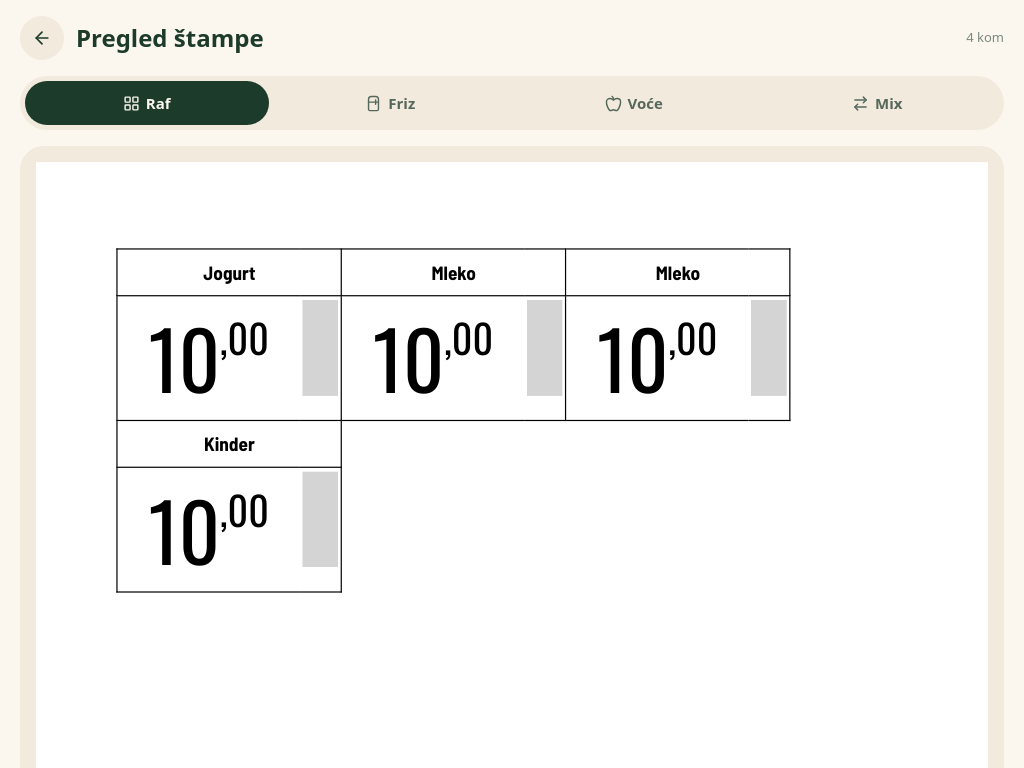
Test: PrintPreview in Mix › moves a tag over with one tap, counting copies
Click the button "Mix": (877, 103) [756,81,999,125]
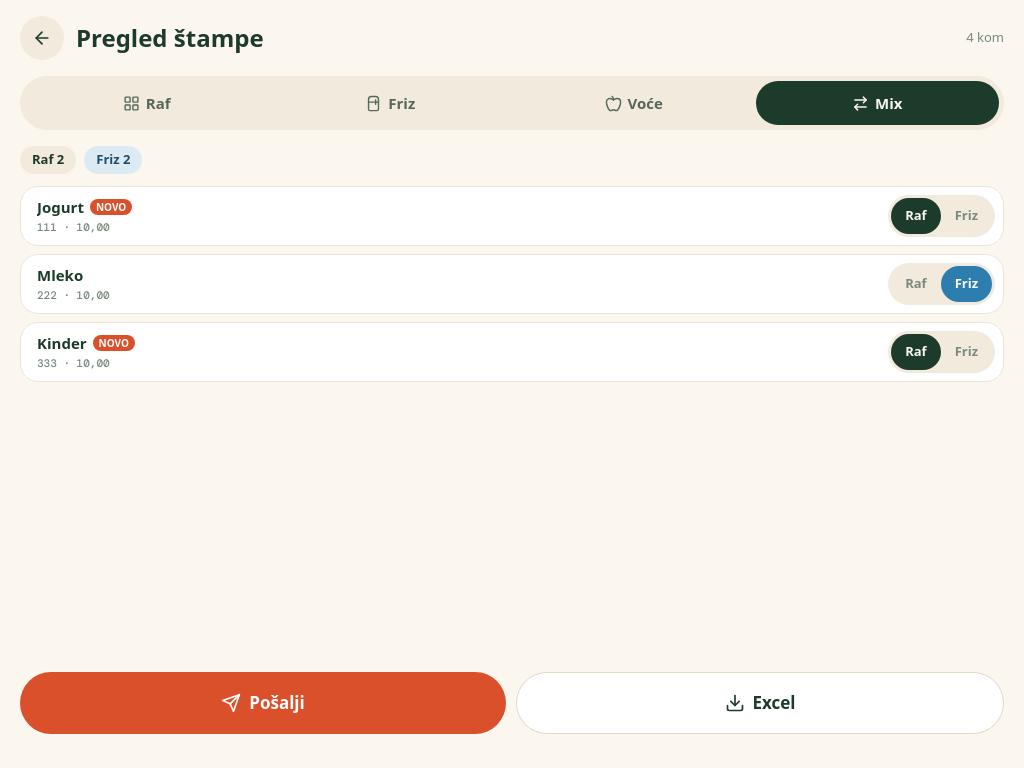
Result: the text "Friz 2" is shown at [84,146,142,174]
Click the radio button labelled "Friz" in the row of "Jogurt": (966, 216) [941,198,992,234]
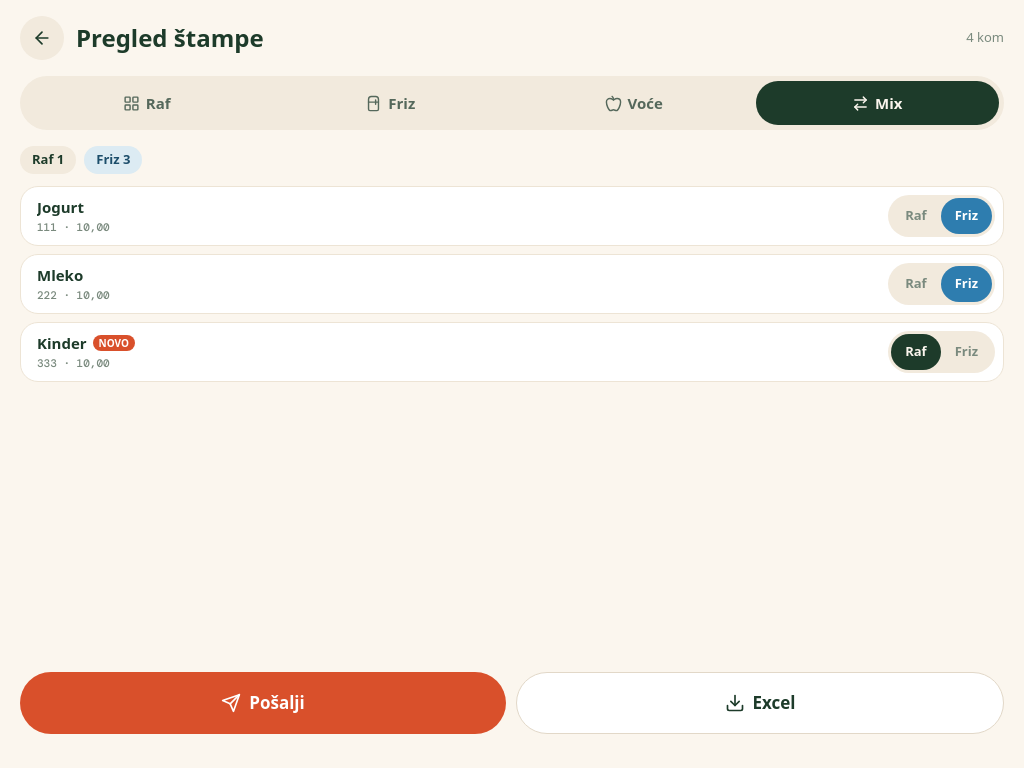
Result: the text "Raf 1" is shown at [20,146,76,174]
Result: the text "Friz 3" is shown at [84,146,142,174]
